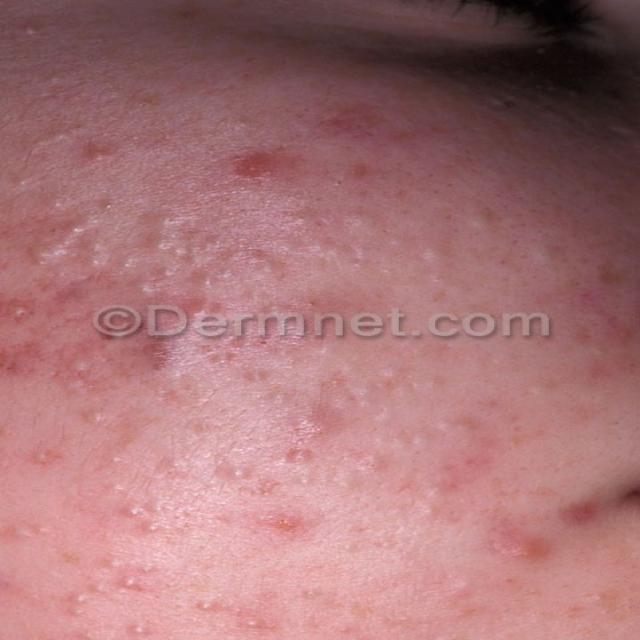acne: (182, 382, 482, 569), (40, 184, 302, 287)
